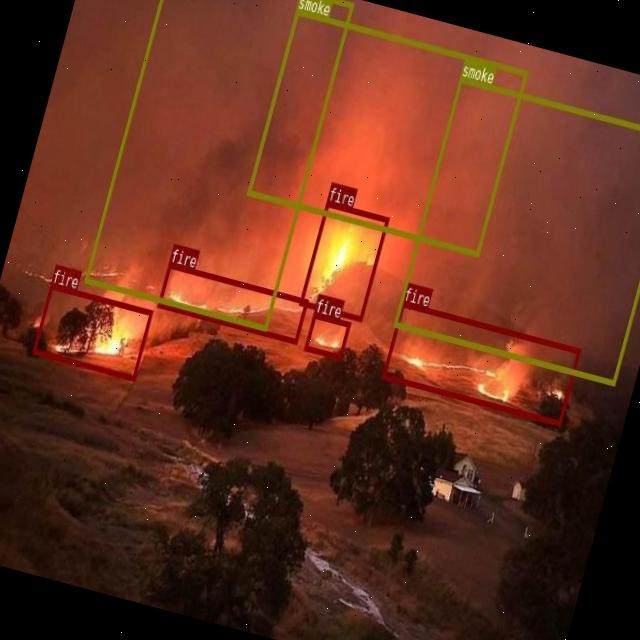fire: (382, 300, 580, 426), (157, 261, 308, 344), (32, 282, 152, 380), (298, 200, 388, 320), (304, 312, 351, 359)
smoke: (83, 0, 353, 329), (393, 76, 640, 384), (246, 8, 527, 255)
